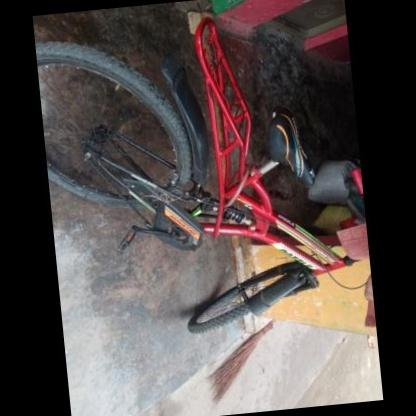Bicycle: (42, 4, 357, 344)
